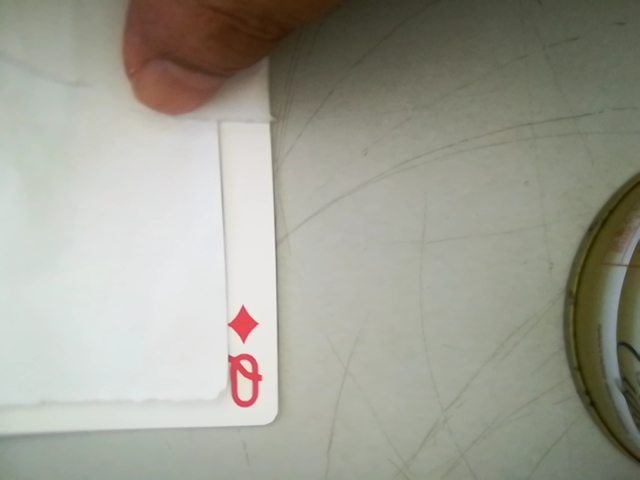fk q: (213, 292, 273, 415)
